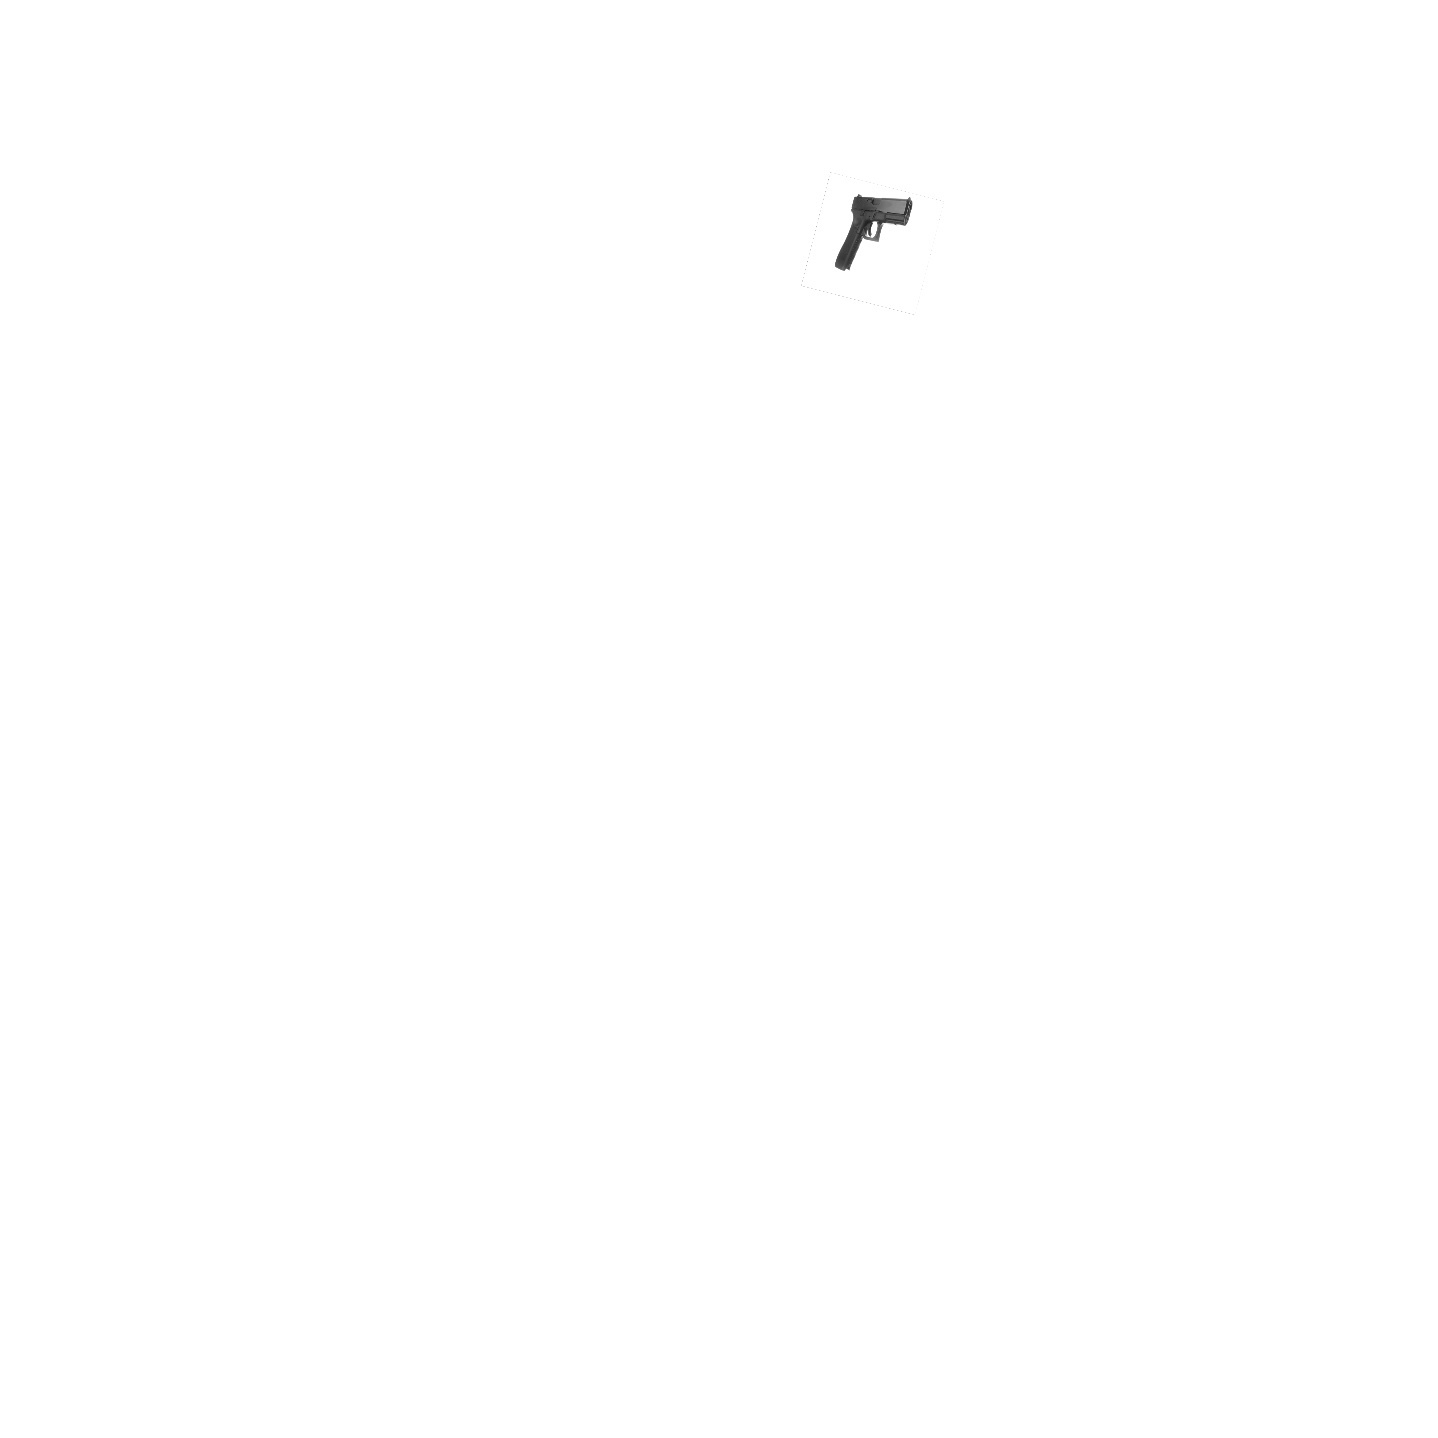gun: (831, 195, 914, 275)
